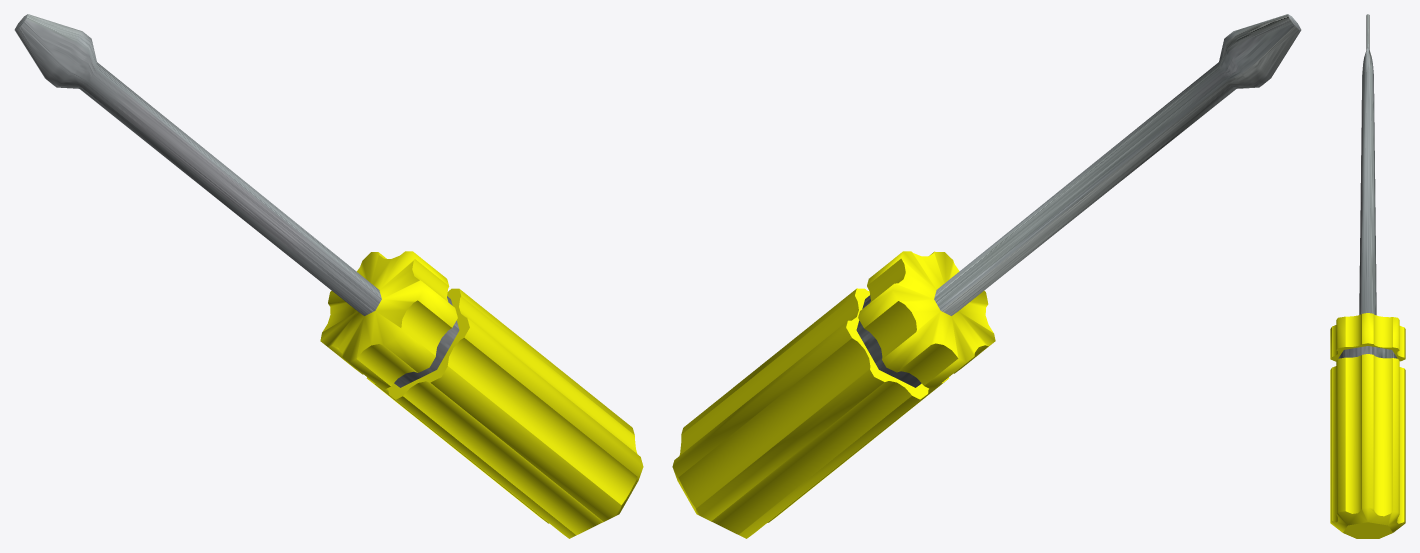
File: ScrewDriver.FBX
The picture shows the model from 3 angles, left to right: view 1: azimuth 30°, elevation 25°; view 2: azimuth 150°, elevation 25°; view 3: azimuth 270°, elevation 25°; orthographic projection. The views are drawn at different scales.
Parts seen in each view (by area): view 1: Cylinder001; view 2: Cylinder001; view 3: Cylinder001.
Part boxes in pixels (bbox=[...]): Cylinder001: bbox=[14, 14, 643, 538]; Cylinder001: bbox=[672, 14, 1301, 538]; Cylinder001: bbox=[1330, 14, 1405, 538].
Size of the model in its own units: 121 by 120 by 22.11.
2 materials, 1 textured.
